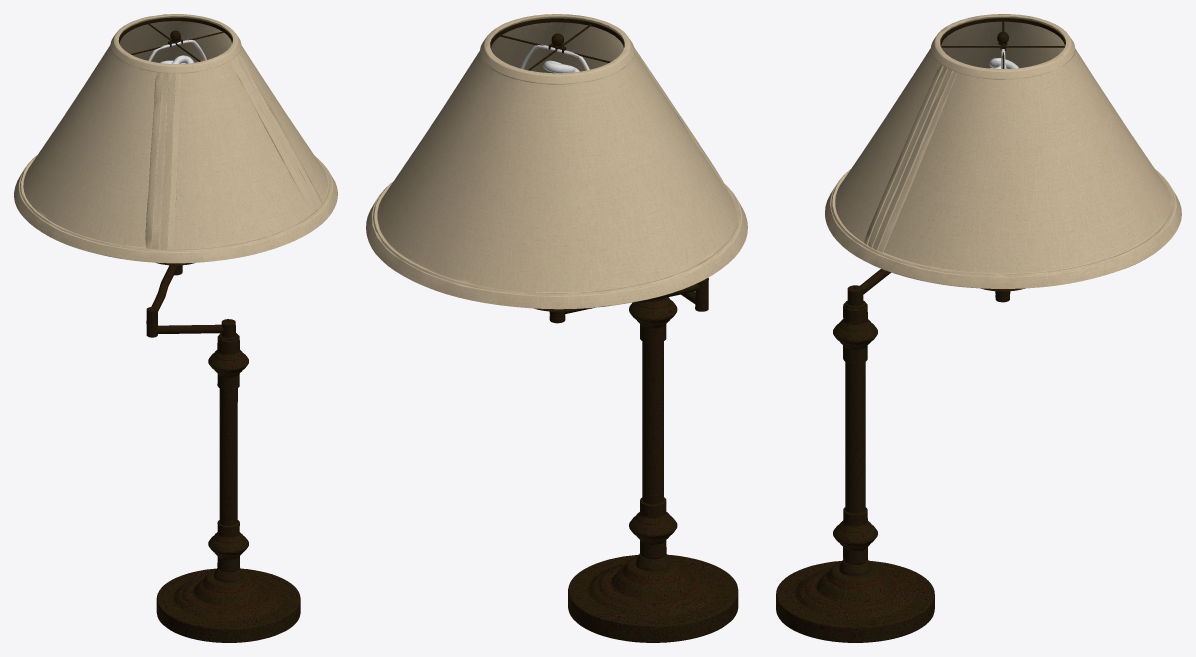
The model's file is TRPT1522_v6_LOD2.obj.
The picture shows the model from 3 angles, left to right: view 1: azimuth 30°, elevation 25°; view 2: azimuth 150°, elevation 25°; view 3: azimuth 270°, elevation 25°; orthographic projection. The views are drawn at different scales.
Parts seen in each view (by area): view 1: not_clear_obj_2_v6, not_clear_obj_3_v6; view 2: not_clear_obj_2_v6, not_clear_obj_3_v6, not_clear_obj_1_v6; view 3: not_clear_obj_2_v6, not_clear_obj_3_v6.
Part boxes in pixels (bbox=[...]): not_clear_obj_2_v6: bbox=[14, 14, 337, 263]; not_clear_obj_3_v6: bbox=[118, 17, 300, 642]; not_clear_obj_2_v6: bbox=[366, 14, 747, 309]; not_clear_obj_3_v6: bbox=[490, 18, 738, 642]; not_clear_obj_1_v6: bbox=[520, 44, 589, 73]; not_clear_obj_2_v6: bbox=[825, 14, 1181, 288]; not_clear_obj_3_v6: bbox=[776, 18, 1065, 642].
Size of what is drawn, in the model's own units: 41.34 by 74.84 by 47.11.
Materials: 4 (2 with a texture image).
